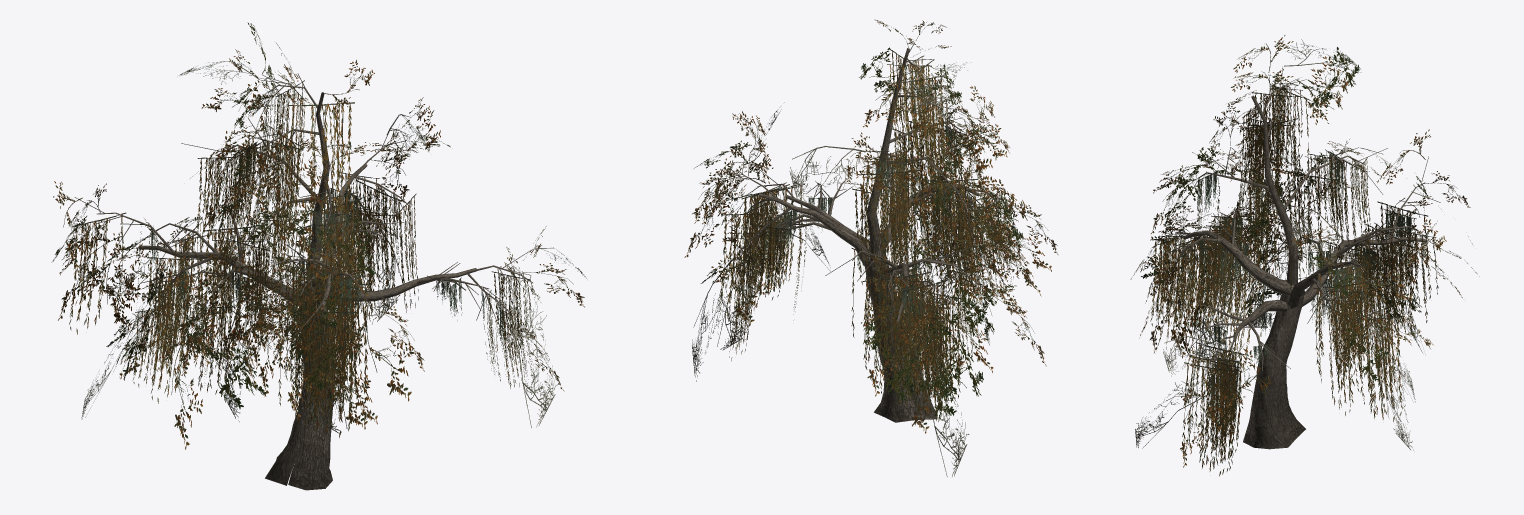
The model's file is tree_v6_decid_gothic_weeping_autumn.glb.
3 renders of one model, left to right at view 1: azimuth 30°, elevation 25°; view 2: azimuth 150°, elevation 25°; view 3: azimuth 270°, elevation 25°, orthographic. The views are drawn at different scales.
Parts seen in each view (by area): view 1: tree_v6_decid_gothic_weeping_autumn_LOD0; view 2: tree_v6_decid_gothic_weeping_autumn_LOD0; view 3: tree_v6_decid_gothic_weeping_autumn_LOD0.
Boxes of the visible parts, <box> form: tree_v6_decid_gothic_weeping_autumn_LOD0: <box>51,22,586,490</box>; tree_v6_decid_gothic_weeping_autumn_LOD0: <box>684,19,1058,476</box>; tree_v6_decid_gothic_weeping_autumn_LOD0: <box>1130,35,1479,476</box>.
Size of what is drawn, in the model's own units: 9.43 by 8.49 by 7.5.
1 material, 1 textured.
